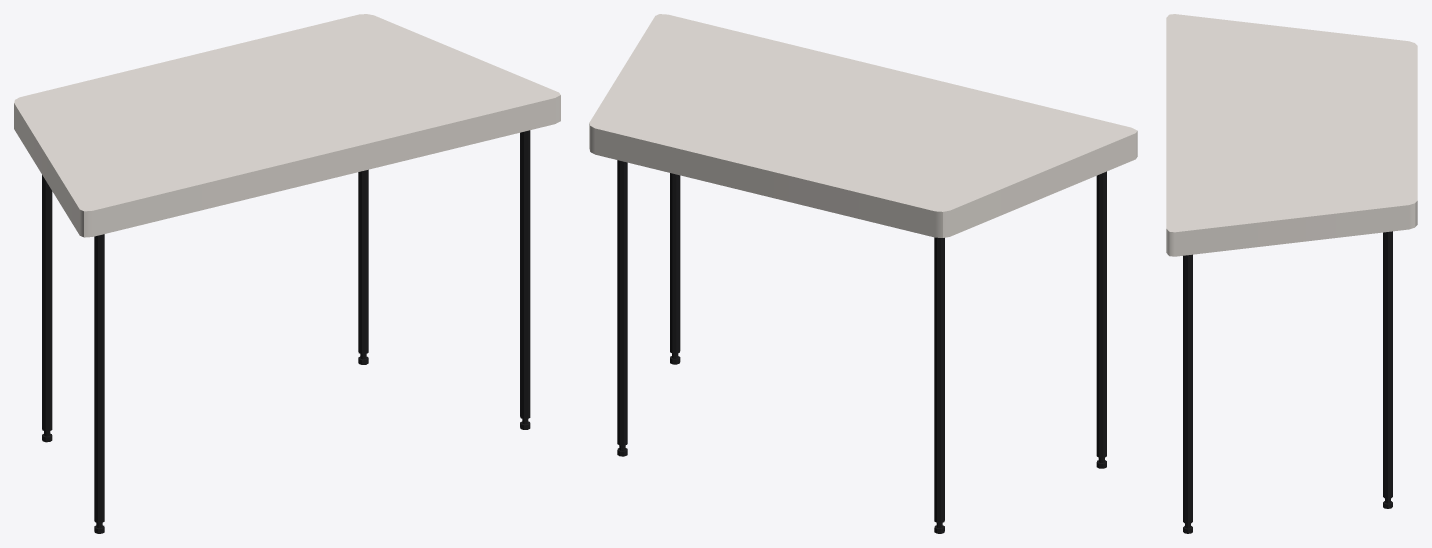
Rendered from cnlounge_desk_person.fbx.
The picture shows the model from 3 angles, left to right: view 1: azimuth 30°, elevation 25°; view 2: azimuth 150°, elevation 25°; view 3: azimuth 270°, elevation 25°; orthographic projection. The views are drawn at different scales.
Parts seen in each view (by area): view 1: cnlounge_desk_person; view 2: cnlounge_desk_person; view 3: cnlounge_desk_person.
Boxes of the visible parts, x1,y1,x2,y2 form: cnlounge_desk_person: [14, 14, 560, 533]; cnlounge_desk_person: [589, 14, 1137, 533]; cnlounge_desk_person: [1166, 14, 1417, 533].
Bounding box in the file's own units: 0.00816 × 0.00543 × 0.00397.
Materials: 1 (1 with a texture image).
